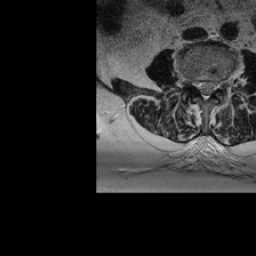CCS_normal: (202, 72, 209, 106)
LFS_normal: (216, 72, 223, 96)
LLS_normal: (209, 74, 216, 99)
RFS_stenosis: (189, 72, 196, 91)
RLS_normal: (195, 74, 202, 96)
